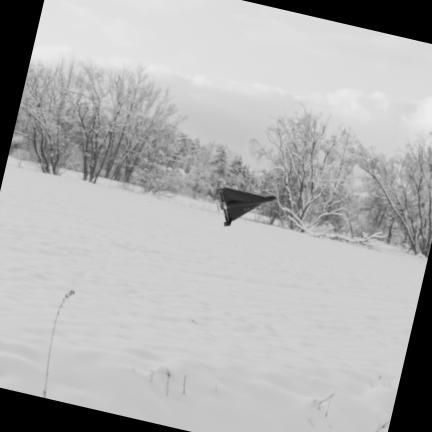Shahed: (218, 188, 275, 225)
